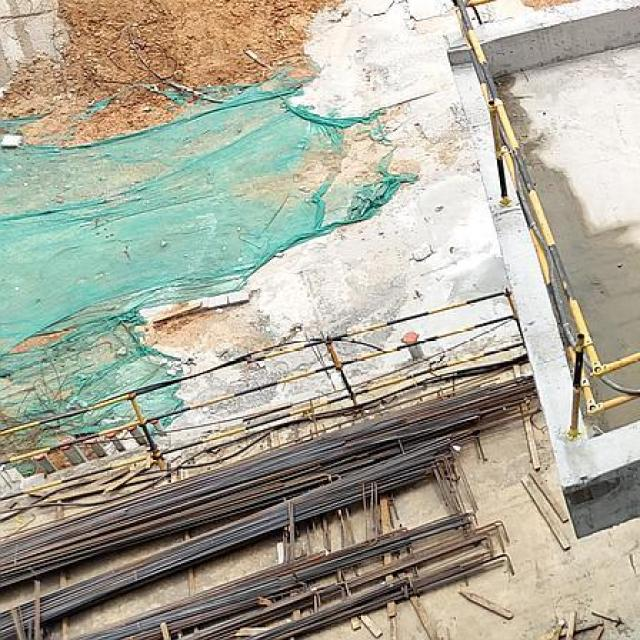Guardrail: (0, 287, 529, 512), (450, 0, 640, 439)
